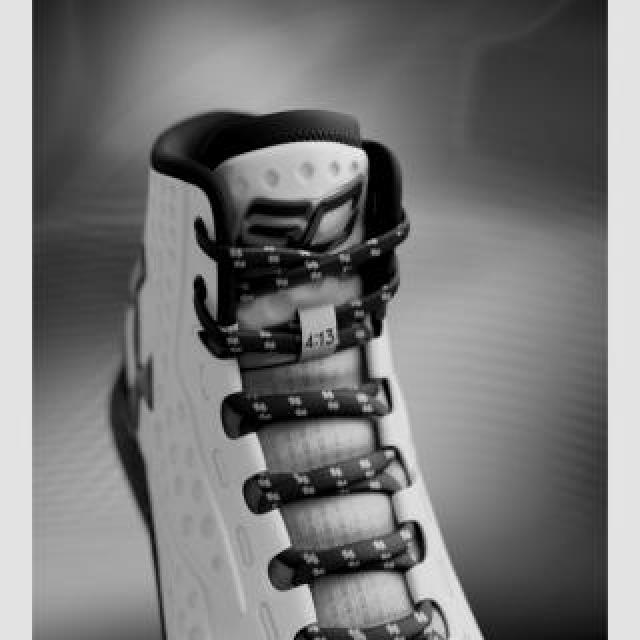shoe: (109, 111, 489, 639)
